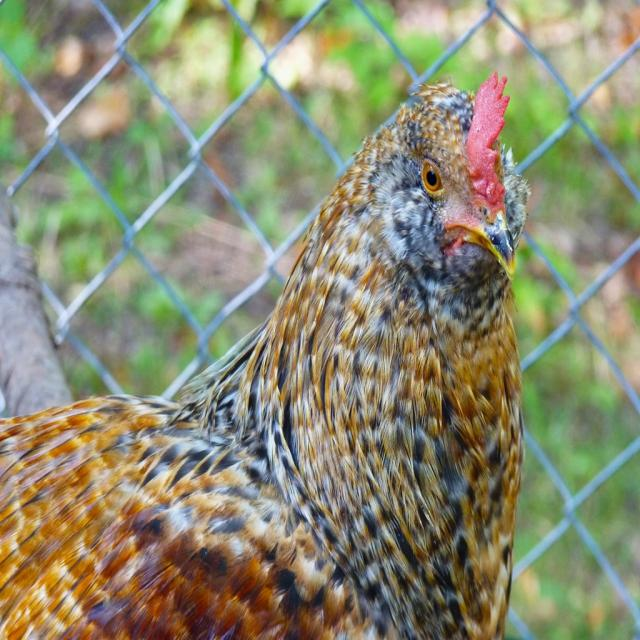Chicken: (0, 71, 533, 640)
